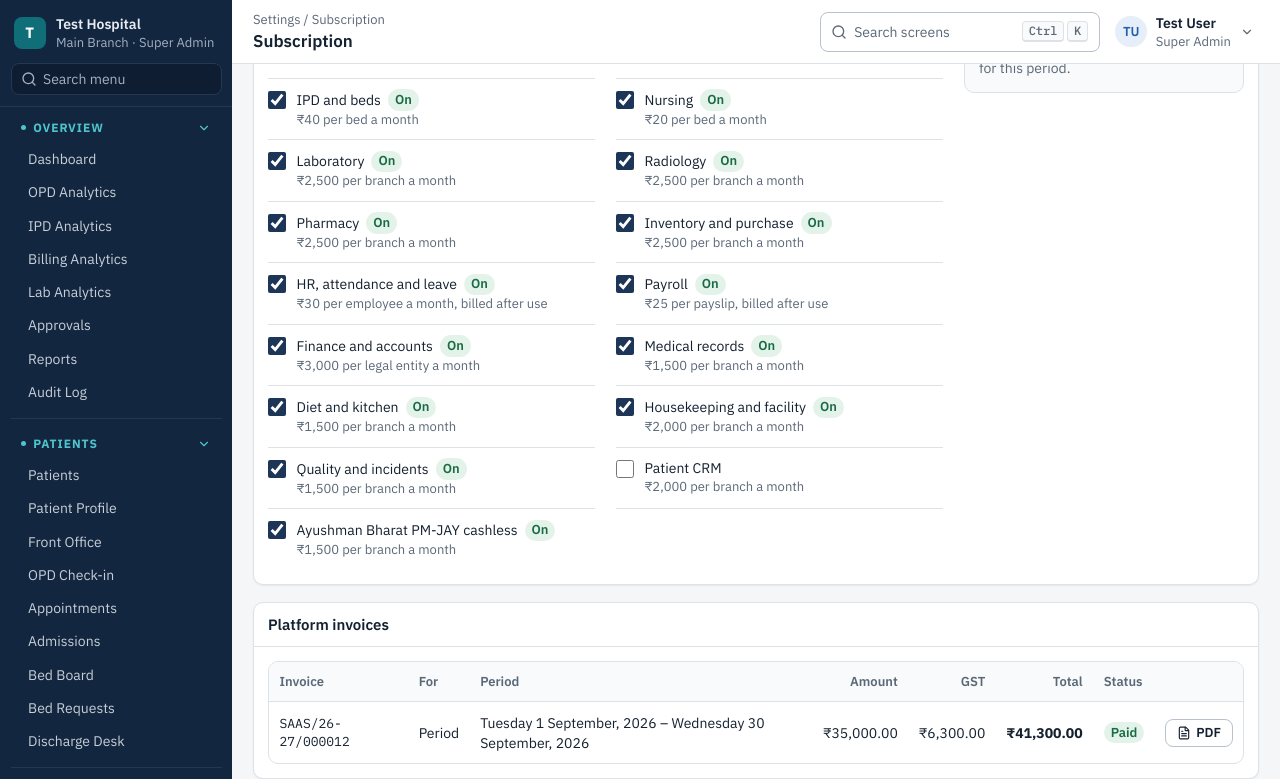
it: Suspended hospital › links a 402 read-only error to Subscription
(page scrolled)
Click the checkbox labelled "Patient CRM" at (625, 469), box left=616, top=460, right=634, bottom=478
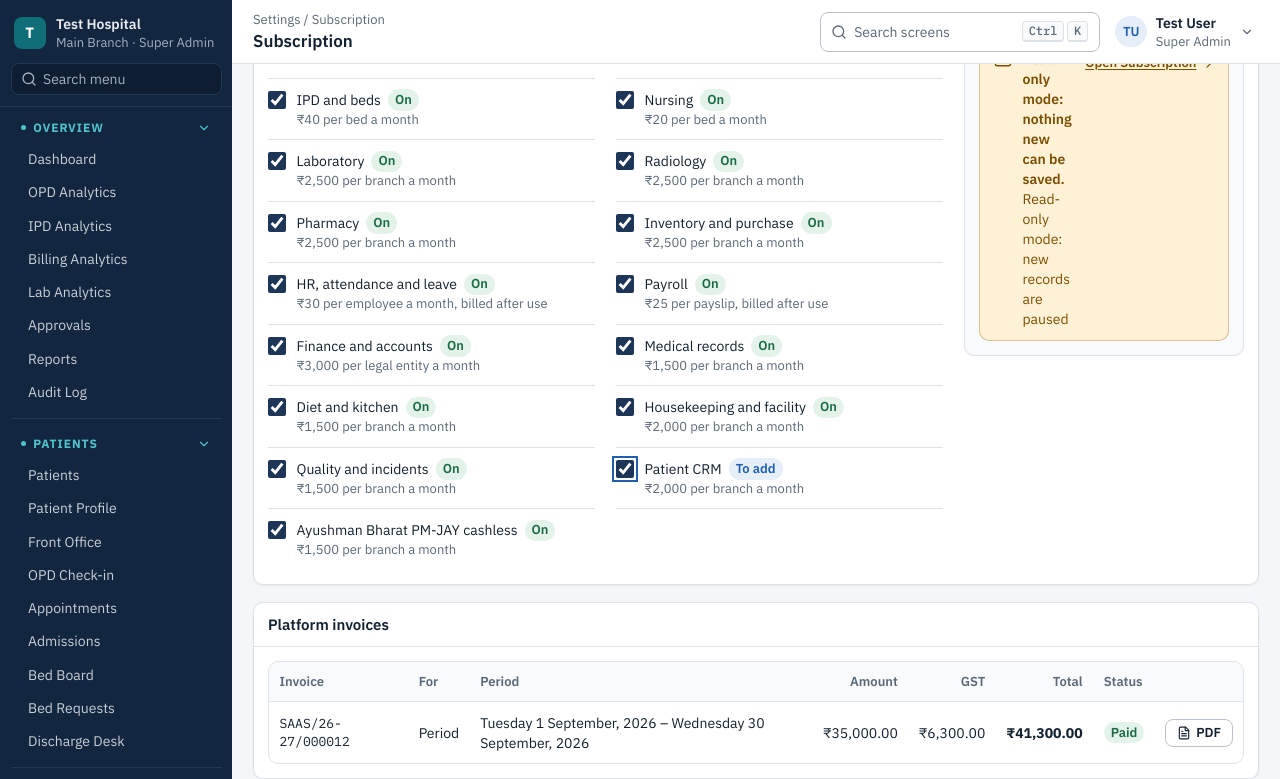
Expected: the text "Read-only mode: nothing new can be saved." is shown, left=1022, top=50, right=1072, bottom=188
